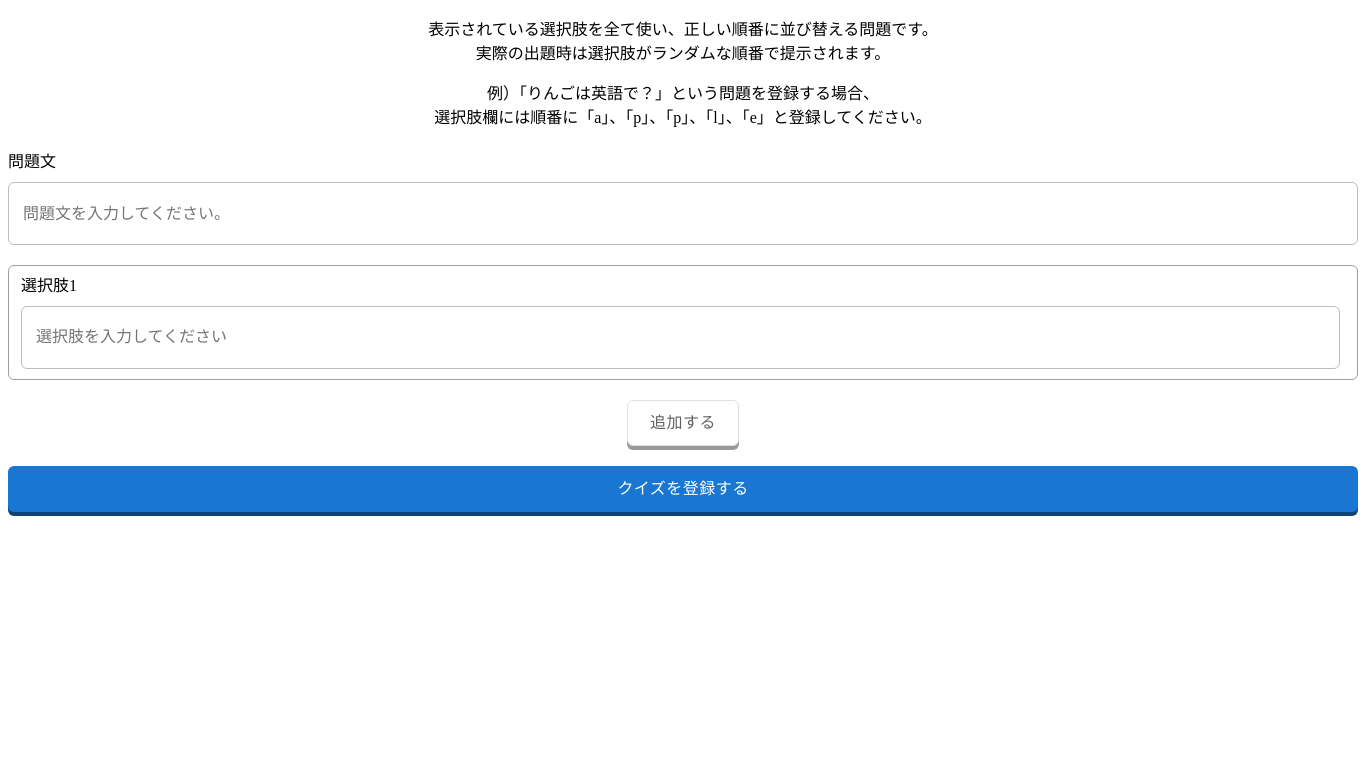
<RegisterSortQuiz /> › `Add` button › should show an additional field
What coordinates should you click on to do the following:
click the button "追加する"
I would click on:
 (683, 423)
Its box is [627,400,739,446].
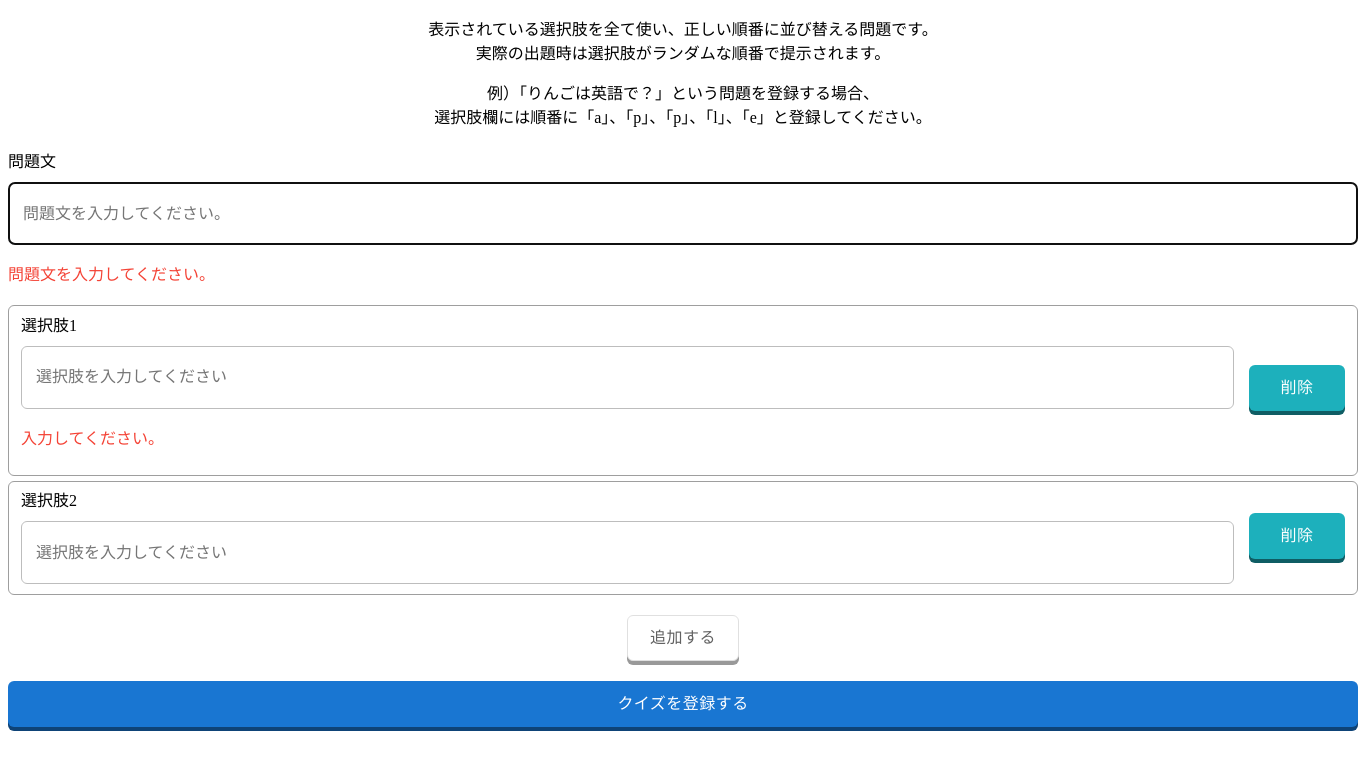
Check: the field labelled "選択肢2" is shown, box [21,521,1234,584]
